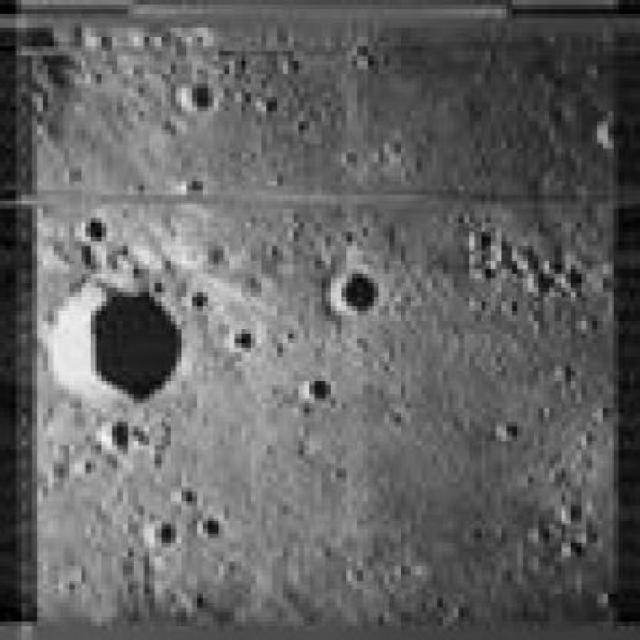crater: (60, 285, 180, 398), (326, 271, 382, 317), (182, 85, 216, 114), (108, 423, 130, 454), (303, 379, 328, 403), (156, 525, 182, 546), (83, 218, 105, 240), (203, 515, 222, 540), (498, 422, 520, 440), (192, 292, 211, 308), (182, 489, 198, 508), (234, 334, 254, 349)
